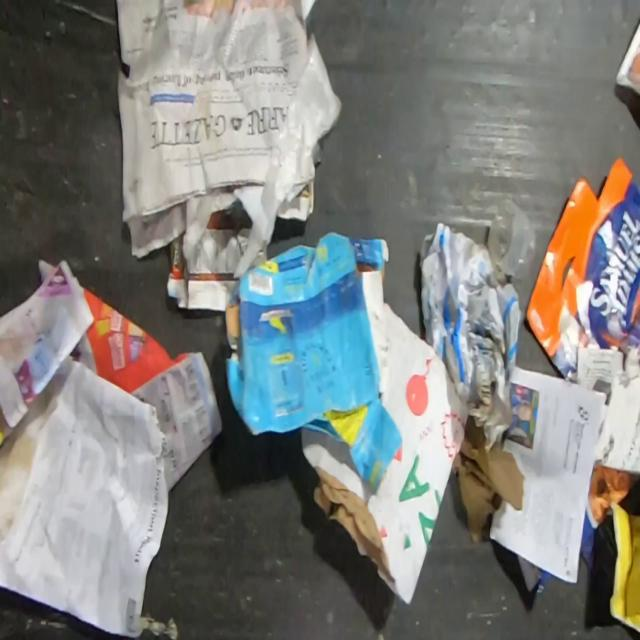cardboard: (299, 270, 469, 607), (224, 230, 403, 495), (524, 153, 640, 384), (167, 205, 252, 310), (580, 458, 639, 582), (515, 553, 555, 594)
rigid_plastic: (486, 197, 538, 282)
soft_plastic: (230, 28, 344, 279)
